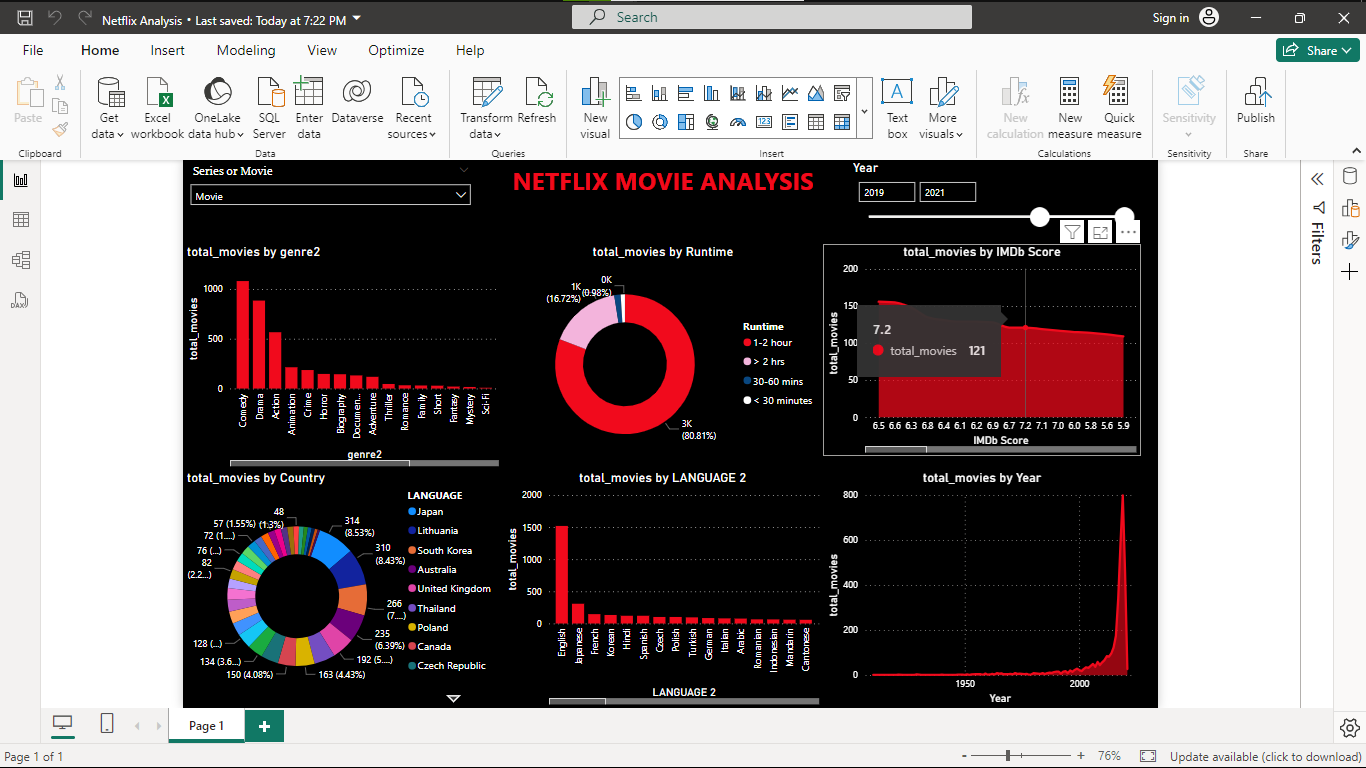

This screenshot's page, from the dashboard's own definition file:
{"tool":"powerbi","page":{"name":"Page 1","canvas":[1280,720],"ordinal":0},"visuals":[{"type":"clusteredColumnChart","fields":{"Y":["netflix_dataset.total_movies"],"Category":["netflix_dataset.genre2"]},"box":[0,110.4,420.4,296.9],"z":0},{"type":"textbox","box":[406,0,449.3,59.1],"z":1000},{"type":"slicer","fields":{"Values":["netflix_dataset.Series or Movie"]},"box":[0,0,388.1,67.1],"z":2000},{"type":"slicer","title":"Year","fields":{"Values":["netflix_dataset.Netflix Release Date.Variation.Date Hierarchy.Year"]},"box":[875,0,383.6,99.9],"z":3000},{"type":"areaChart","fields":{"Y":["netflix_dataset.total_movies"],"Category":["netflix_dataset.IMDb Score"]},"box":[840.9,110.4,417.8,278.5],"z":4000},{"type":"lineClusteredColumnComboChart","fields":{"Category":["netflix_dataset.LANGUAGE 2"],"Y":["netflix_dataset.total_movies"]},"box":[419.1,407.3,421.8,312.7],"z":5000},{"type":"donutChart","fields":{"Y":["netflix_dataset.total_movies"],"Category":["netflix_dataset.Text Before Delimiter"]},"box":[0,407.3,419.1,312.7],"z":6000},{"type":"stackedAreaChart","fields":{"Category":["netflix_dataset.Release Date.Variation.Date Hierarchy.Year"],"Y":["netflix_dataset.total_movies"]},"box":[841,407.4,417.9,312.5],"z":7000},{"type":"donutChart","fields":{"Category":["netflix_dataset.Runtime"],"Y":["netflix_dataset.total_movies"]},"box":[420.4,110.4,420.4,296.9],"z":8000}]}

Visuals, with their boxes on the page's 1280x720 design canvas (x1, y1, x2, y2). These are canvas units, not pixel positions in the 1366x768 screenshot, which may show the page scaled, cropped or inside an application window:
clusteredColumnChart - netflix_dataset.total_movies x netflix_dataset.genre2: 0 110 420 407
textbox: 406 0 855 59
slicer - netflix_dataset.Series or Movie: 0 0 388 67
"Year" slicer: 875 0 1259 100
areaChart - netflix_dataset.total_movies x netflix_dataset.IMDb Score: 841 110 1259 389
lineClusteredColumnComboChart - netflix_dataset.LANGUAGE 2 x netflix_dataset.total_movies: 419 407 841 720
donutChart - netflix_dataset.total_movies x netflix_dataset.Text Before Delimiter: 0 407 419 720
stackedAreaChart - netflix_dataset.Release Date.Variation.Date Hierarchy.Year x netflix_dataset.total_movies: 841 407 1259 720
donutChart - netflix_dataset.Runtime x netflix_dataset.total_movies: 420 110 841 407
